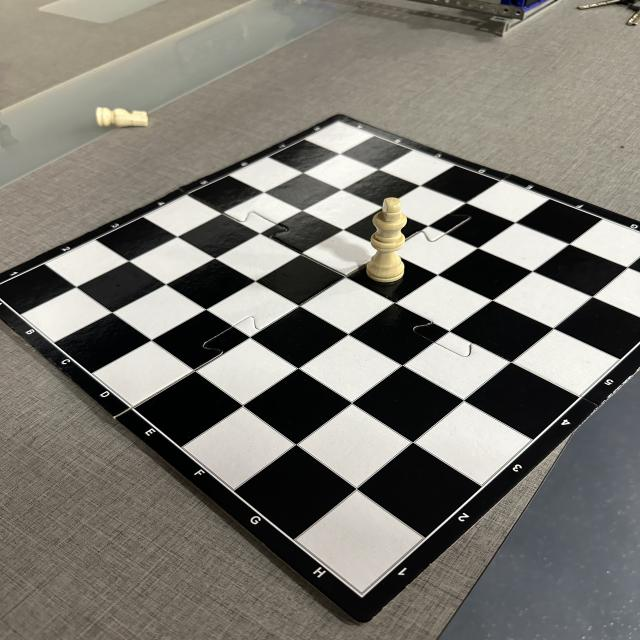White-King: (364, 197, 410, 284)
White-Knight: (96, 107, 150, 127)
